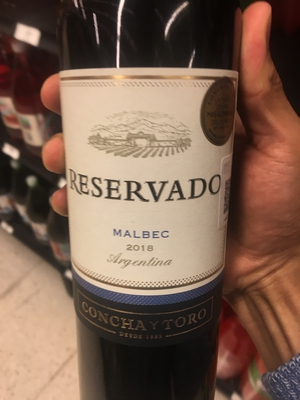reservado malbec: (59, 5, 234, 399)
